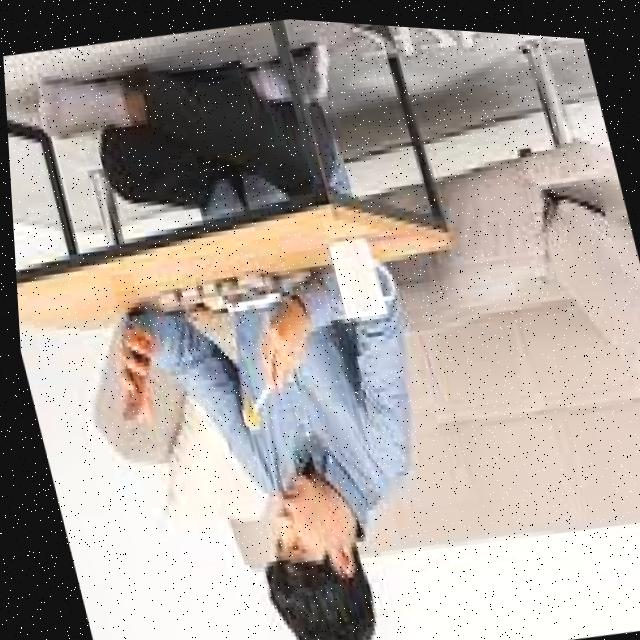eating-person: (2, 0, 490, 640)
